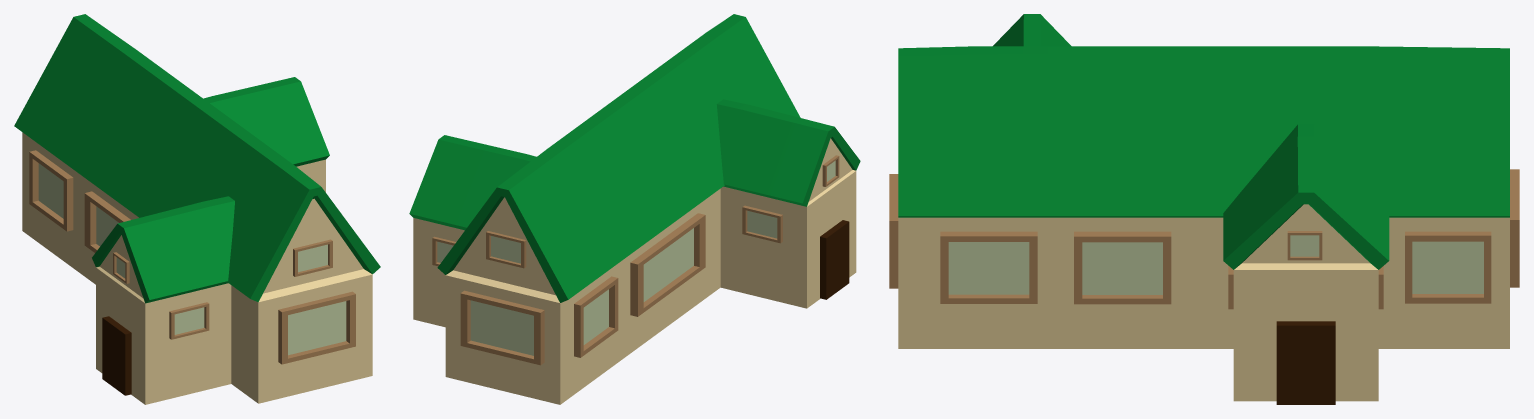
The model's file is _ouse_Green.fbx.
3 renders of one model, left to right at view 1: azimuth 30°, elevation 25°; view 2: azimuth 150°, elevation 25°; view 3: azimuth 270°, elevation 25°, orthographic. The views are drawn at different scales.
Parts seen in each view (by area): view 1: pCube25; view 2: pCube25; view 3: pCube25.
Boxes of the visible parts, <box> form: pCube25: <box>14,14,380,404</box>; pCube25: <box>409,14,860,404</box>; pCube25: <box>889,14,1519,404</box>.
Size of the model in its own units: 30.18 by 19.72 by 42.93.
